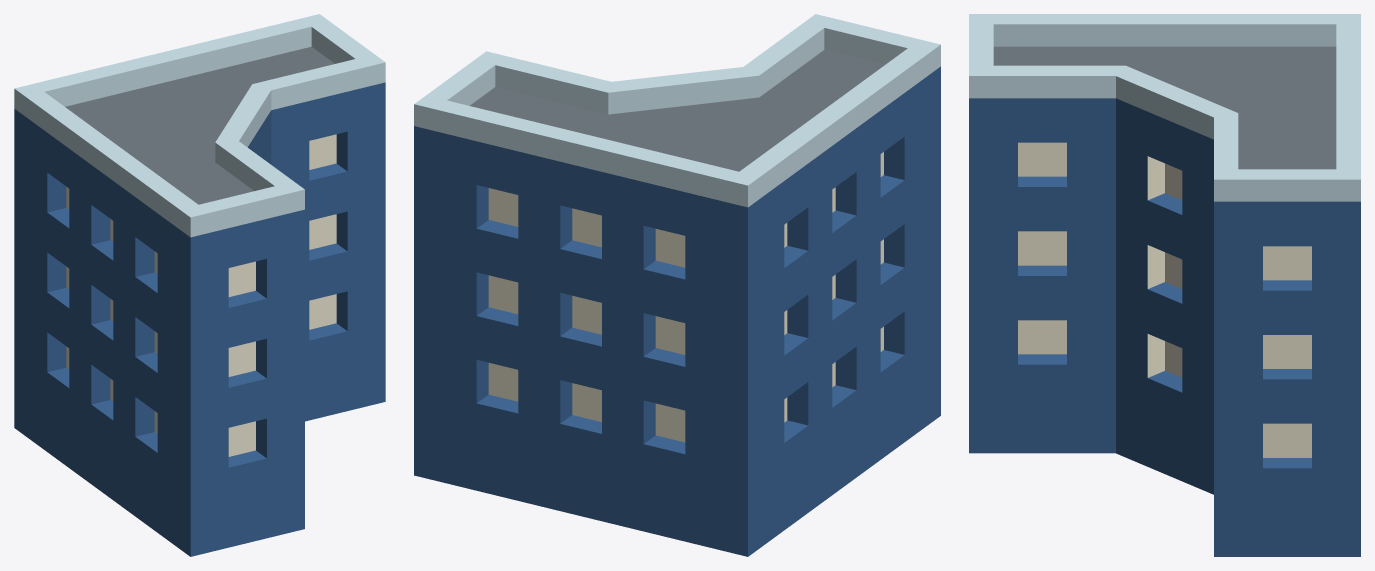
File: Building_8 (Blue).obj
3 renders of one model, left to right at view 1: azimuth 30°, elevation 25°; view 2: azimuth 150°, elevation 25°; view 3: azimuth 270°, elevation 25°, orthographic. The views are drawn at different scales.
Parts seen in each view (by area): view 1: Building_8_(Blue); view 2: Building_8_(Blue); view 3: Building_8_(Blue).
Boxes of the visible parts, x1,y1,x2,y2 form: Building_8_(Blue): [14, 14, 385, 556]; Building_8_(Blue): [414, 14, 940, 556]; Building_8_(Blue): [969, 14, 1360, 556].
Size of the model in its own units: 1.6 by 1.7 by 1.6.
